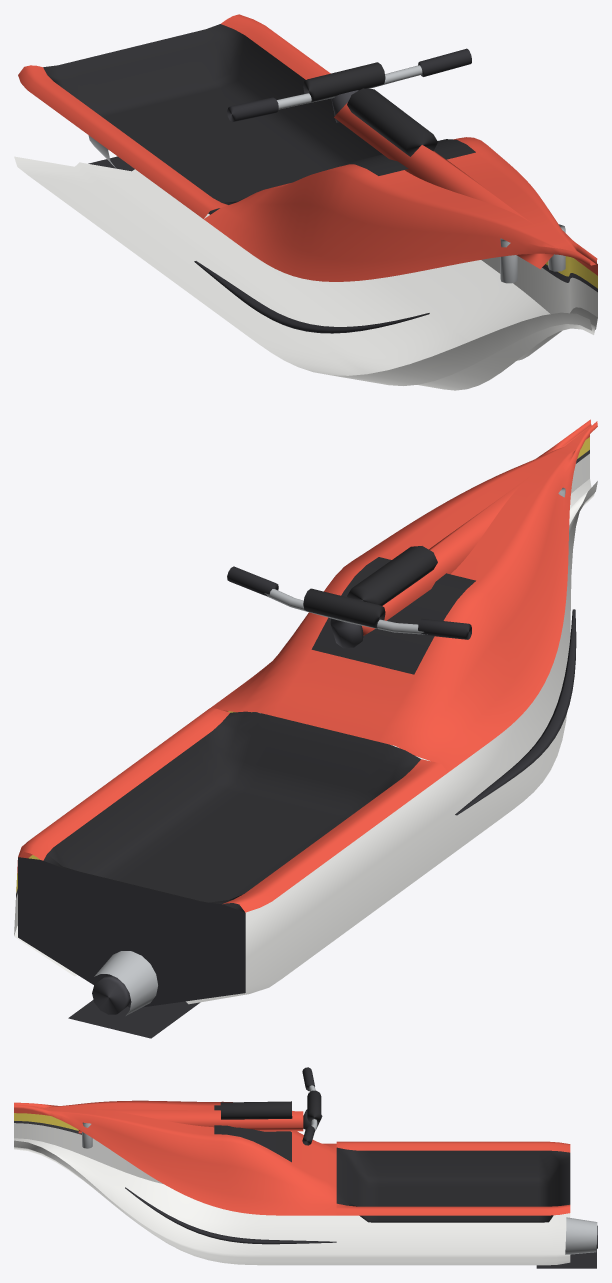
Rendered from jetski-standup-blade.glb.
3 views of the same model, one above another, from view 1: azimuth 30°, elevation 25°; view 2: azimuth 150°, elevation 25°; view 3: azimuth 270°, elevation 25° (orthographic). The views are drawn at different scales.
Visible parts, largest first — view 1: Hull, Pole, Bars; view 2: Hull, Pole, Bars; view 3: Hull, Pole, Bars.
Part boxes in pixels (left/top/right/bottom): Hull: left=14, top=14, right=597, bottom=390; Pole: left=334, top=88, right=553, bottom=269; Bars: left=227, top=48, right=471, bottom=122; Hull: left=14, top=419, right=597, bottom=1038; Pole: left=347, top=475, right=531, bottom=635; Bars: left=227, top=566, right=471, bottom=648; Hull: left=14, top=1100, right=597, bottom=1268; Pole: left=78, top=1101, right=303, bottom=1133; Bars: left=302, top=1067, right=322, bottom=1145.
Bounding box in the file's own units: 0.8503 × 0.7704 × 2.62.
